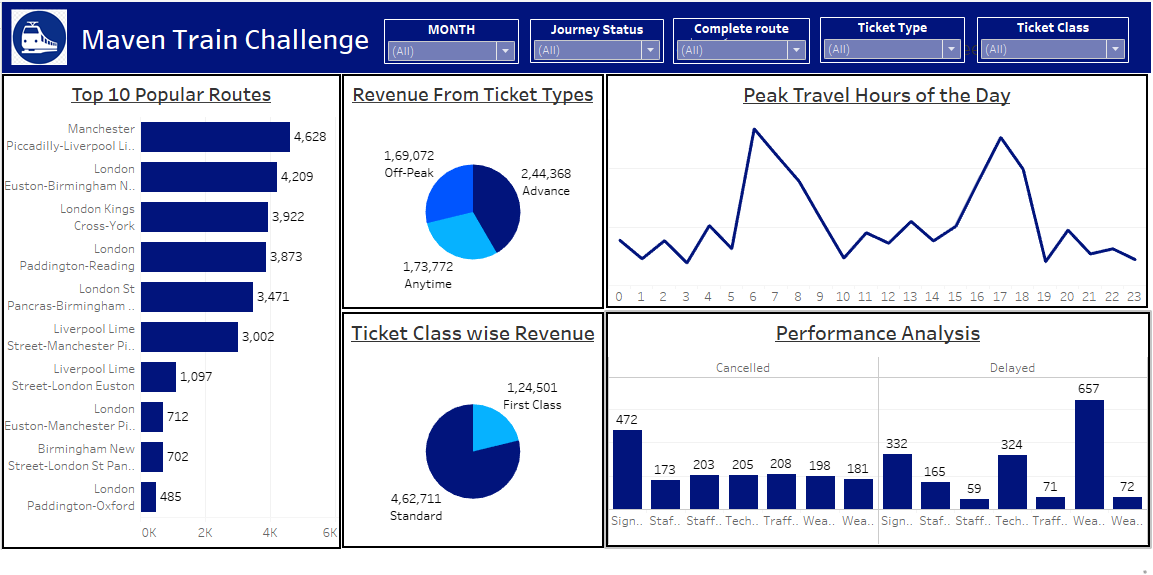

The page's visual inventory and layout, read from the dashboard file:
{"tool":"tableau","page":{"name":"Dashboard 1","canvas":[1000,1000],"units":"permille","ordinal":0},"visuals":[{"type":"text","box":[62.3,5.4,261.5,121.4]},{"type":"image","param":"Image/WhatsApp Image 2024-09-04 at 11.59.36_3f67f132.jpg","box":[7.8,12.7,65.8,101.5]},{"type":"filter","title":"Sheet 6","param":"[federated.16j1ly60me1wxg14rg6h917qms9b].[none:Ticket Type:nk]","box":[708.2,27.2,125.5,83.3]},{"type":"filter","title":"Sheet 6","param":"[federated.16j1ly60me1wxg14rg6h917qms9b].[none:Ticket Class:nk]","box":[844.2,27.2,131.6,83.3]},{"type":"filter","title":"Sheet 6","param":"[federated.16j1ly60me1wxg14rg6h917qms9b].[none:Calculation_595038164359999488:nk","box":[581,29,118.6,83.3]},{"type":"filter","title":"Sheet 6","param":"[federated.16j1ly60me1wxg14rg6h917qms9b].[mn:Date of Journey:ok]","box":[330.7,30.8,116.9,81.5]},{"type":"filter","title":"Sheet 6","param":"[federated.16j1ly60me1wxg14rg6h917qms9b].[none:Journey Status:nk]","box":[457.1,30.8,116,79.7]},{"type":"worksheet","title":"Sheet 6","mark":"Automatic","box":[805.2,48.9,89.2,72.5]},{"type":"worksheet","title":"Sheet 1","mark":"Automatic","rows":["Calculation_595038164359999488"],"cols":["railway.csv_5DD262C8B4B74C3EAE5873CAECF38CD5"],"box":[0,130.4,293.5,860.5]},{"type":"worksheet","title":"Sheet 2","mark":"Pie","box":[294.4,130.4,226.8,425.7]},{"type":"worksheet","title":"Sheet 4","mark":"Line","rows":["railway.csv_5DD262C8B4B74C3EAE5873CAECF38CD5"],"cols":["Departure Time"],"box":[522.9,130.4,469.3,423.9]},{"type":"worksheet","title":"Sheet 3","mark":"Pie","box":[294.4,561.6,226.8,427.5]},{"type":"worksheet","title":"Sheet 5","mark":"Bar","rows":["railway.csv_5DD262C8B4B74C3EAE5873CAECF38CD5"],"cols":["Journey Status","Reason for Delay"],"box":[522.9,561.6,471,425.7]}]}

Visuals, with their boxes on the dashboard's canvas, which has no fixed pixel size, in thousandths of its width and height (x1, y1, x2, y2). These are canvas units, not pixel positions in the 1153x575 screenshot, which may show the page scaled, cropped or inside an application window:
text: (62, 5, 324, 127)
image: (8, 13, 74, 114)
"Sheet 6" filter: (708, 27, 834, 110)
"Sheet 6" filter: (844, 27, 976, 110)
"Sheet 6" filter: (581, 29, 700, 112)
"Sheet 6" filter: (331, 31, 448, 112)
"Sheet 6" filter: (457, 31, 573, 110)
"Sheet 6" worksheet: (805, 49, 894, 121)
"Sheet 1" worksheet: (0, 130, 294, 991)
"Sheet 2" worksheet (Pie marks): (294, 130, 521, 556)
"Sheet 4" worksheet (Line marks): (523, 130, 992, 554)
"Sheet 3" worksheet (Pie marks): (294, 562, 521, 989)
"Sheet 5" worksheet (Bar marks): (523, 562, 994, 987)
